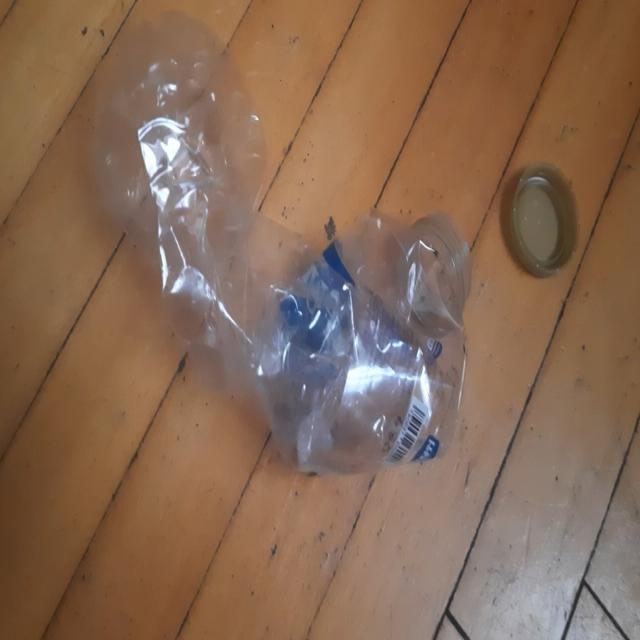Plastic: (92, 8, 470, 476)
